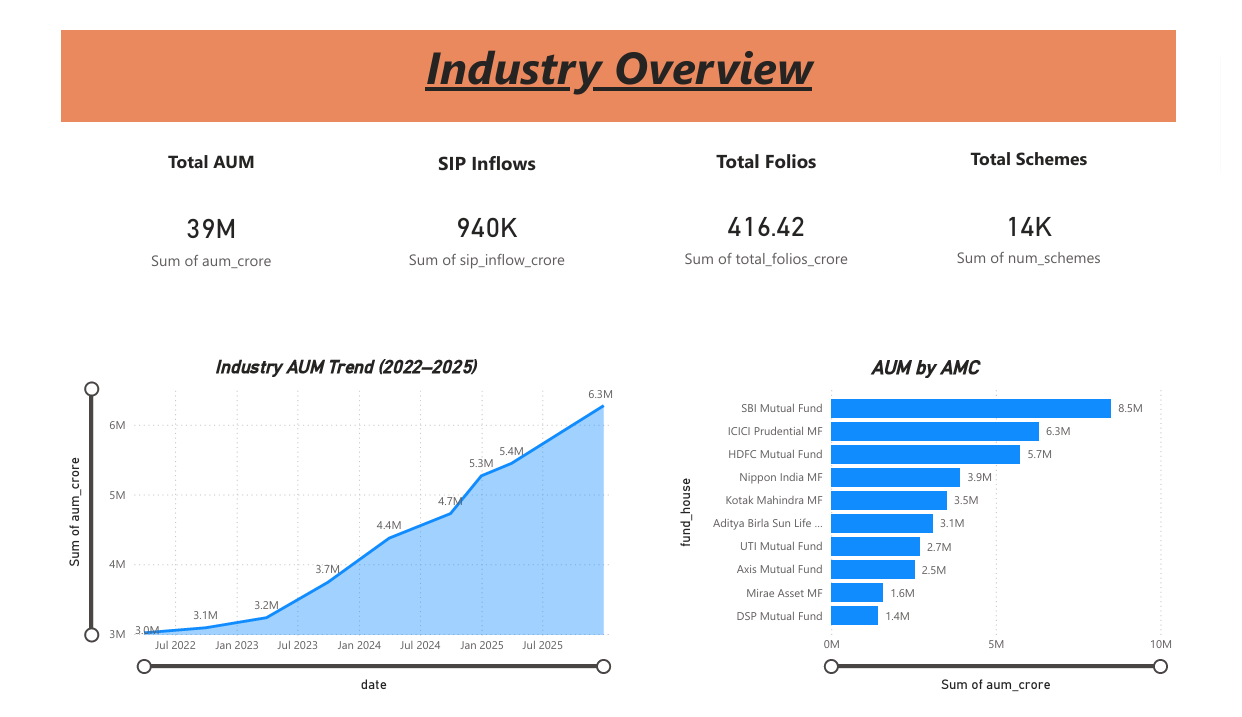

The page's visual inventory and layout, read from the dashboard file:
{"tool":"powerbi","page":{"name":"Industry Overview","canvas":[1280,720],"ordinal":0},"visuals":[{"type":"textbox","box":[44,9.8,1188.6,97.8],"z":0},{"type":"card","title":"Total AUM","fields":{"Values":["Sum(03_aum_by_fund_house.aum_crore)"]},"box":[104.3,135.8,199,161.9],"z":1000},{"type":"card","title":"SIP Inflows","fields":{"Values":["Sum(04_monthly_sip_inflows.sip_inflow_crore)"]},"box":[394,136,207,160],"z":2000},{"type":"card","title":"Total Folios","fields":{"Values":["Sum(06_industry_folio_count.total_folios_crore)"]},"box":[695.7,134.5,199,161.9],"z":3000},{"type":"card","title":"Total Schemes","fields":{"Values":["Sum(03_aum_by_fund_house.num_schemes)"]},"box":[975.6,133.1,199,163.3],"z":4000},{"type":"lineChart","title":"Industry AUM Trend (2022–2025)","fields":{"Y":["Sum(03_aum_by_fund_house.aum_crore)"],"Category":["03_aum_by_fund_house.date"]},"box":[44,357.1,605.3,363.2],"z":5000},{"type":"clusteredBarChart","title":"AUM by AMC","fields":{"Y":["Sum(03_aum_by_fund_house.aum_crore)"],"Category":["03_aum_by_fund_house.fund_house"]},"box":[695.8,357.1,536.8,363.2],"z":6000}]}

Visuals, with their boxes in screenshot pixels (x1, y1, x2, y2), scaled from the page's 1280x720 canvas onto the 1242x717 screenshot:
textbox: 43 10 1196 107
"Total AUM" card: 101 135 294 296
"SIP Inflows" card: 382 135 583 295
"Total Folios" card: 675 134 868 295
"Total Schemes" card: 947 133 1140 295
"Industry AUM Trend (2022–2025)" lineChart: 43 356 630 716
"AUM by AMC" clusteredBarChart: 675 356 1196 716
